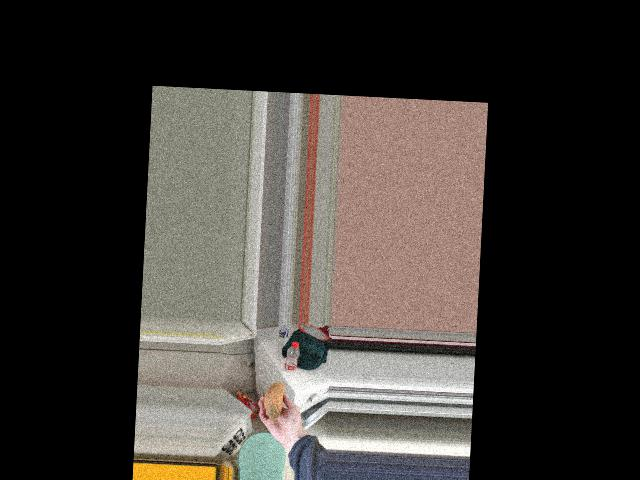sweet_potato: (265, 378, 287, 425)
